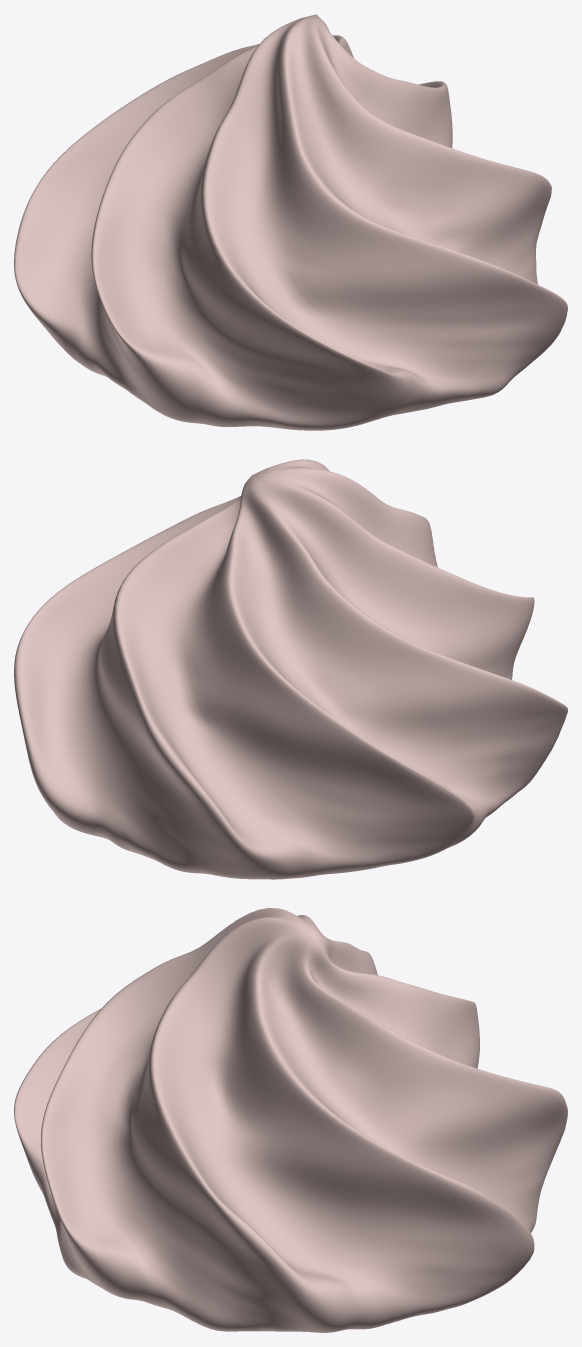
Rendered from cream-basic.glb.
3 renders of one model, top to bottom at view 1: azimuth 30°, elevation 25°; view 2: azimuth 150°, elevation 25°; view 3: azimuth 270°, elevation 25°, orthographic.
Parts seen in each view (by area): view 1: cream; view 2: cream; view 3: cream.
Part boxes in pixels (box(x1,y1,x2,y2)): cream: box(14, 14, 567, 430); cream: box(14, 459, 567, 879); cream: box(14, 908, 567, 1332).
Size of the model in its own units: 11.22 by 7.29 by 11.24.
